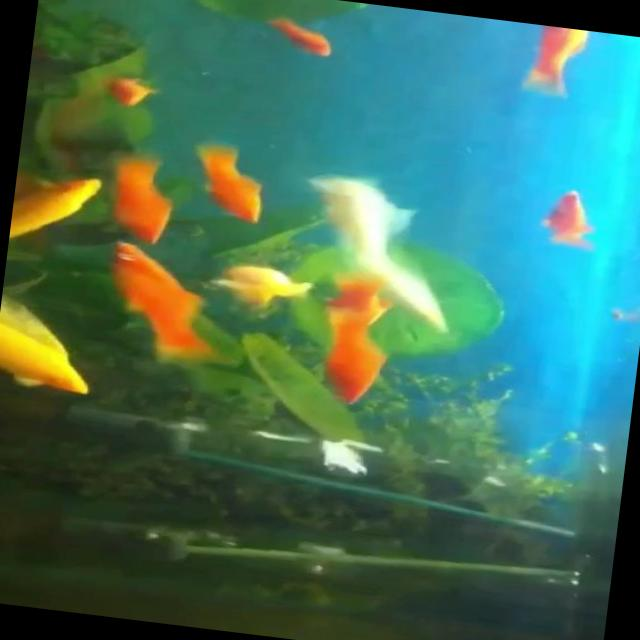PlatyFish: (84, 234, 260, 390), (175, 132, 282, 232), (313, 306, 393, 414), (532, 185, 604, 252)
